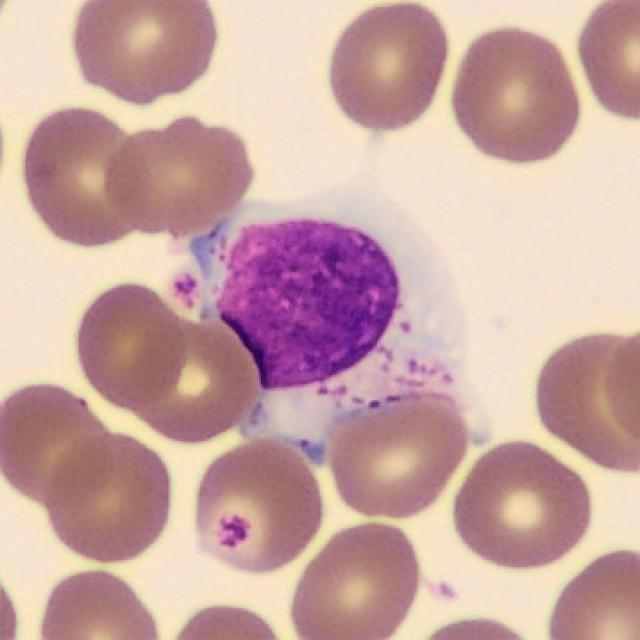Linfocito atipico: (188, 192, 497, 485)
